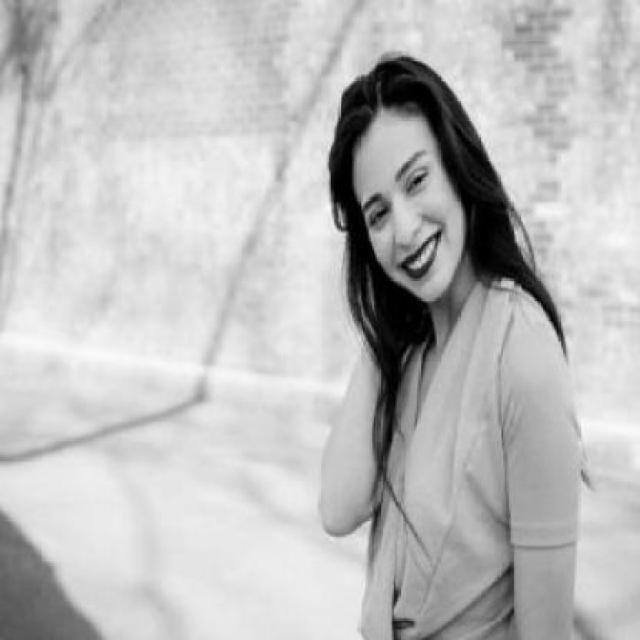happy: (357, 144, 446, 285)
